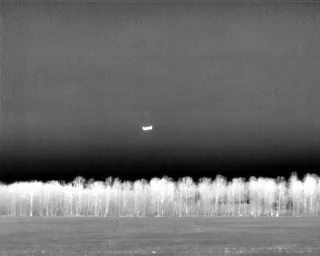DRONE: (139, 120, 158, 136)
